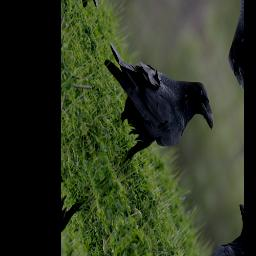Crow: (86, 0, 218, 203)
